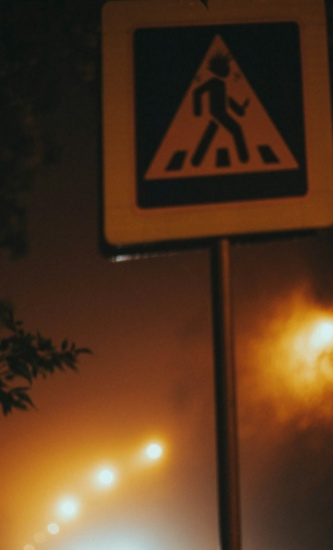Pedestrian crossing: (128, 29, 316, 207)
